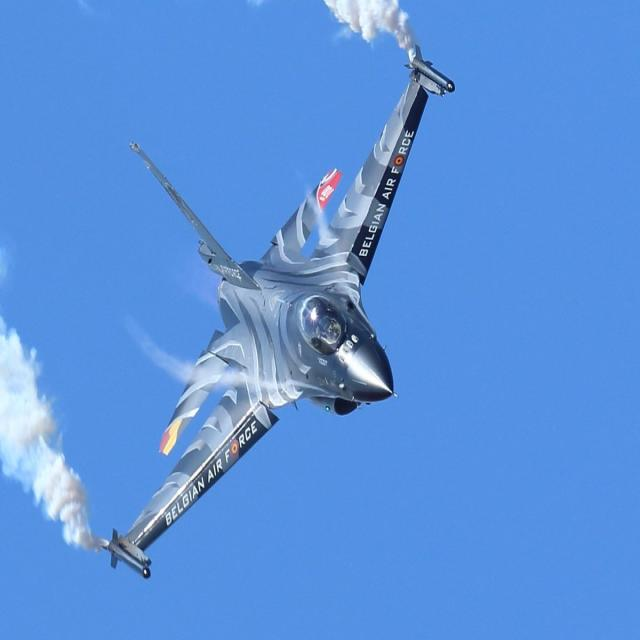MIL_Plane: (99, 43, 457, 579)
